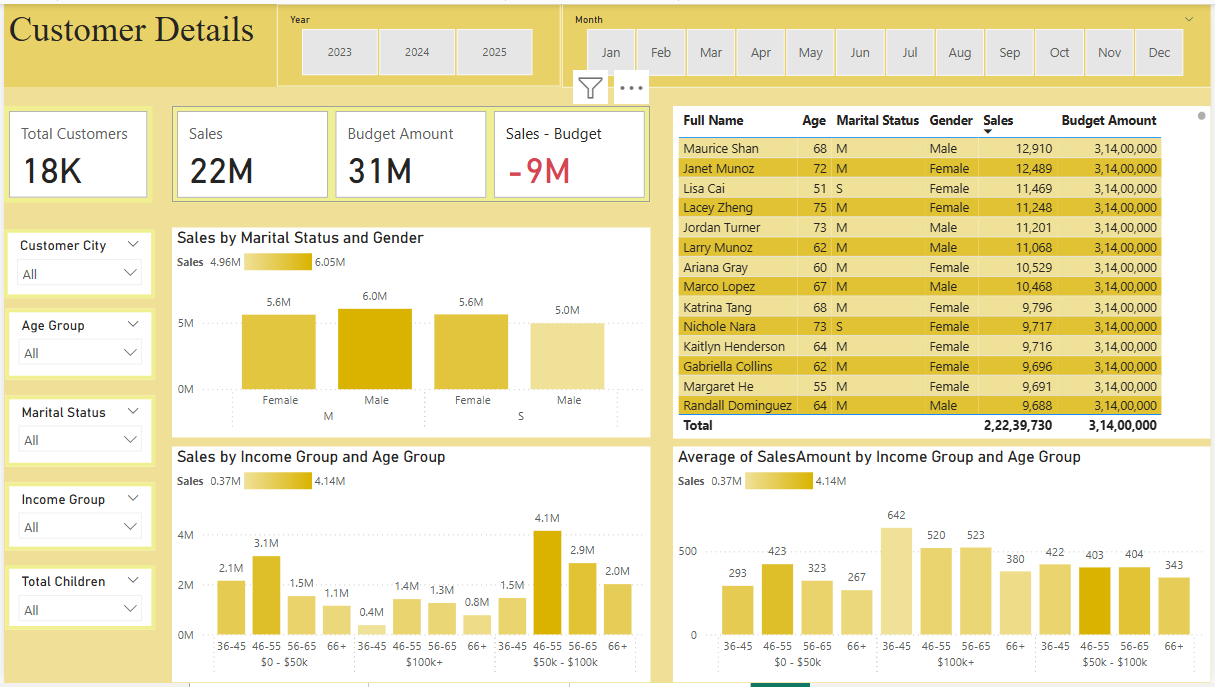

The dashboard page shown, as its layout file describes it:
{"tool":"powerbi","page":{"name":"Customer Details","canvas":[1280,720],"ordinal":1},"visuals":[{"type":"textbox","box":[0,0,1280,88],"z":0},{"type":"slicer","fields":{"Values":["DIM_Customer.Customer City"]},"box":[0,238.3,160,73.3],"z":1000},{"type":"slicer","fields":{"Values":["DIM_Customer.Age Group"]},"box":[1.7,323.3,158.3,75],"z":2000},{"type":"slicer","fields":{"Values":["DIM_Customer.Marital Status"]},"box":[1.7,415,158.3,75],"z":3000},{"type":"slicer","fields":{"Values":["DIM_Customer.Income Group"]},"box":[1.7,506.7,158.3,71.7],"z":4000},{"type":"slicer","fields":{"Values":["DIM_Calendar.Year"]},"box":[254,0,336,88],"z":5000},{"type":"slicer","fields":{"Values":["DIM_Calendar.MonthShort"]},"box":[591.7,0,688.3,88.3],"z":6000},{"type":"cardVisual","fields":{"Data":["FACT_InternetSales.Sales","FACT_Budget.Budget Amount","FACT_Budget.Sales - Budget"]},"box":[177.5,107.5,507.5,102.5],"z":7000},{"type":"columnChart","fields":{"Category":["DIM_Customer.Income Group","DIM_Customer.Age Group"],"Y":["Measure Table.Sales"]},"box":[177.5,470,507.5,250],"z":8000},{"type":"columnChart","fields":{"Category":["DIM_Customer.Income Group","DIM_Customer.Age Group"],"Y":["Avg(FACT_InternetSales.SalesAmount)"]},"box":[710,470,570,250],"z":9000},{"type":"cardVisual","fields":{"Data":["Measure Table.Total Customers"]},"box":[0,107.5,157.5,102.5],"z":10000},{"type":"columnChart","fields":{"Category":["DIM_Customer.Marital Status","DIM_Customer.Gender"],"Y":["Measure Table.Sales"]},"box":[177.5,237.5,507.5,222.5],"z":11000},{"type":"tableEx","fields":{"Values":["DIM_Customer.Full Name","DIM_Customer.Age","DIM_Customer.Marital Status","DIM_Customer.Gender","Measure Table.Sales","Measure Table.Budget Amount"]},"box":[710,107.5,570,352.5],"z":12000},{"type":"slicer","fields":{"Values":["DIM_Customer.Total Children"]},"box":[1.7,595,158.3,68.3],"z":13000}]}

Visuals, with their boxes in screenshot pixels (x1, y1, x2, y2), scaled from the page's 1280x720 canvas onto the 1215x687 screenshot:
textbox: select_region(0, 0, 1214, 84)
slicer - DIM_Customer.Customer City: select_region(0, 227, 152, 297)
slicer - DIM_Customer.Age Group: select_region(2, 308, 152, 380)
slicer - DIM_Customer.Marital Status: select_region(2, 396, 152, 468)
slicer - DIM_Customer.Income Group: select_region(2, 483, 152, 552)
slicer - DIM_Calendar.Year: select_region(241, 0, 560, 84)
slicer - DIM_Calendar.MonthShort: select_region(562, 0, 1214, 84)
cardVisual - FACT_InternetSales.Sales x FACT_Budget.Budget Amount: select_region(168, 103, 650, 200)
columnChart - DIM_Customer.Income Group x DIM_Customer.Age Group: select_region(168, 448, 650, 686)
columnChart - DIM_Customer.Income Group x DIM_Customer.Age Group: select_region(674, 448, 1214, 686)
cardVisual - Measure Table.Total Customers: select_region(0, 103, 150, 200)
columnChart - DIM_Customer.Marital Status x DIM_Customer.Gender: select_region(168, 227, 650, 439)
tableEx - DIM_Customer.Full Name x DIM_Customer.Age: select_region(674, 103, 1214, 439)
slicer - DIM_Customer.Total Children: select_region(2, 568, 152, 633)
